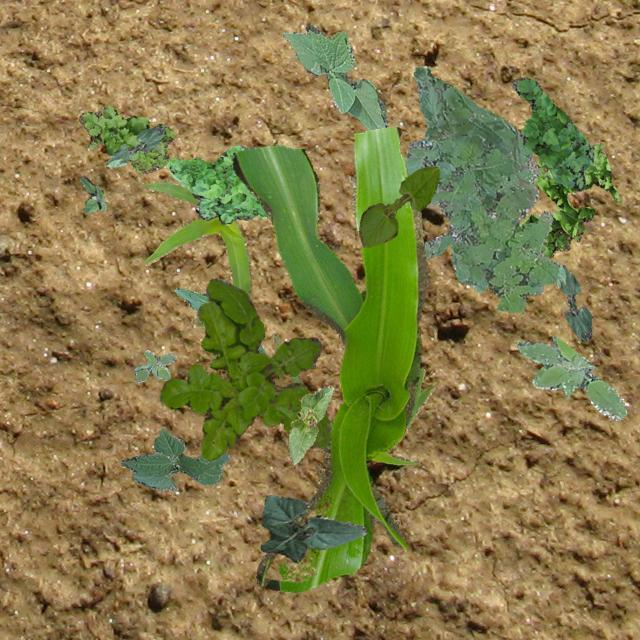crop: (232, 126, 426, 592), (272, 332, 434, 463), (137, 182, 250, 326), (282, 23, 388, 128), (260, 494, 366, 562), (120, 428, 230, 489), (358, 165, 438, 246), (174, 286, 264, 352), (288, 384, 334, 462), (556, 264, 590, 340), (104, 126, 164, 166)
weed: (404, 66, 560, 312), (158, 276, 330, 459), (518, 142, 618, 258), (516, 334, 626, 419), (512, 76, 592, 190), (165, 144, 268, 223), (78, 104, 174, 172), (132, 348, 174, 382), (78, 175, 105, 212)
